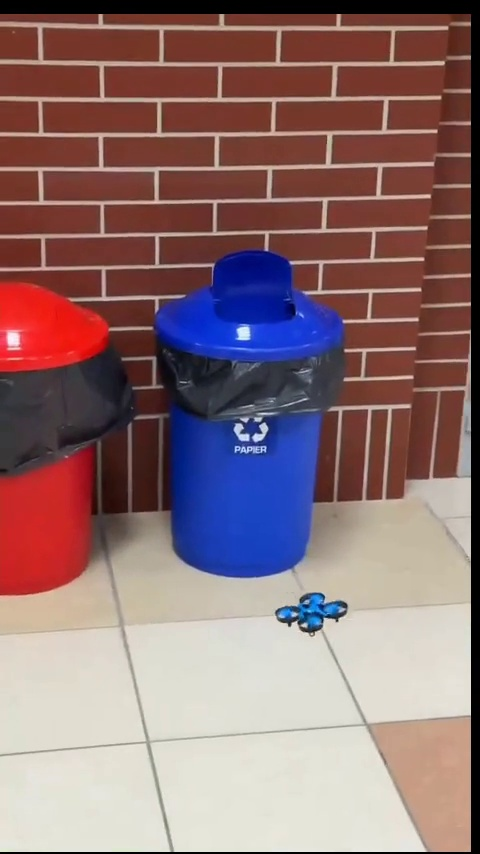drone: (275, 595, 350, 637)
